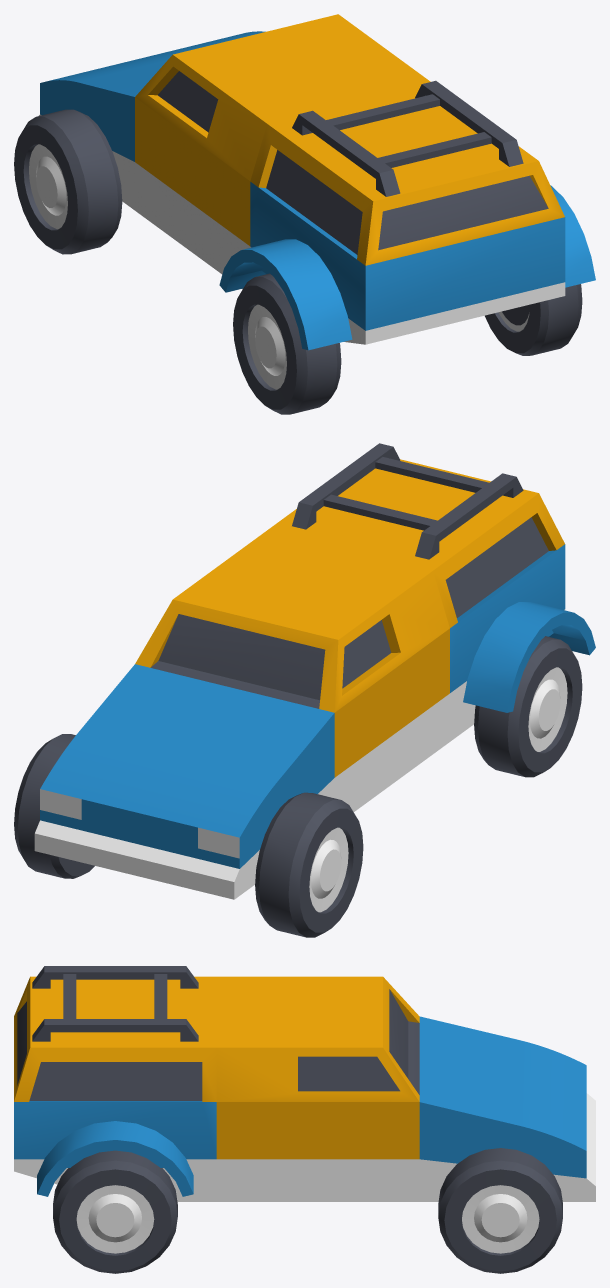
Rendered from car.fbx.
The picture shows the model from 3 angles, top to bottom: view 1: azimuth 30°, elevation 25°; view 2: azimuth 150°, elevation 25°; view 3: azimuth 270°, elevation 25°; orthographic projection. The views are drawn at different scales.
Visible parts, largest first — view 1: trunk_station_8, windshield_square_2, wheel_small_11, wheel_small_12, detail_roofDoubleRails%_13, hood_slope_7, detail_fender_14, wheel_small_9, detail_fender_15; view 2: windshield_square_2, hood_slope_7, trunk_station_8, wheel_small_11, wheel_small_12, detail_roofDoubleRails%_13, detail_fender_14, wheel_small_10; view 3: windshield_square_2, trunk_station_8, hood_slope_7, wheel_small_10, wheel_small_9, detail_roofDoubleRails%_13, detail_fender_15.
Boxes of the visible parts, bbox=[...] form: trunk_station_8: bbox=[250, 86, 565, 344]; windshield_square_2: bbox=[135, 14, 430, 289]; wheel_small_11: bbox=[14, 109, 122, 254]; wheel_small_12: bbox=[233, 273, 341, 414]; detail_roofDoubleRails%_13: bbox=[292, 80, 523, 196]; hood_slope_7: bbox=[39, 31, 265, 210]; detail_fender_14: bbox=[219, 239, 352, 350]; wheel_small_9: bbox=[485, 284, 582, 355]; detail_fender_15: bbox=[550, 185, 595, 287]; windshield_square_2: bbox=[135, 530, 449, 811]; hood_slope_7: bbox=[34, 664, 334, 899]; trunk_station_8: bbox=[267, 459, 565, 741]; wheel_small_11: bbox=[255, 792, 363, 937]; wheel_small_12: bbox=[474, 636, 582, 777]; detail_roofDoubleRails%_13: bbox=[292, 443, 523, 559]; detail_fender_14: bbox=[463, 602, 595, 712]; wheel_small_10: bbox=[14, 734, 94, 878]; windshield_square_2: bbox=[216, 976, 419, 1201]; trunk_station_8: bbox=[14, 976, 216, 1201]; hood_slope_7: bbox=[419, 1016, 595, 1201]; wheel_small_10: bbox=[438, 1148, 562, 1273]; wheel_small_9: bbox=[53, 1150, 177, 1273]; detail_roofDoubleRails%_13: bbox=[32, 966, 198, 1041]; detail_fender_15: bbox=[37, 1121, 193, 1196].
Bounding box in the file's own units: 14.4 × 11.98 × 28.7.
